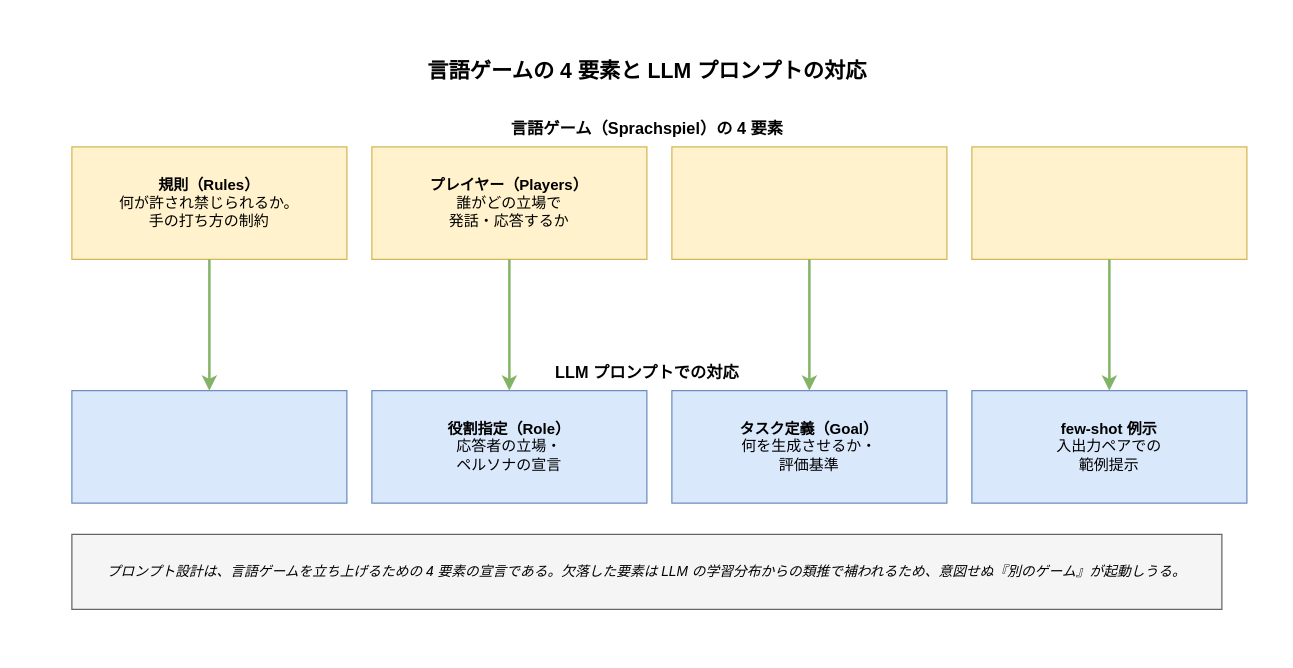
Some shapes in this 1293 by 668 pixel diagram are drawn without their labels. Each missing label, with the box of its shape:
システム指示・制約 禁則・出力形式・ 文体指定: (71, 389, 347, 503)
目的（Purpose） 何を達成する ゲームか: (671, 146, 947, 259)
訓練（Training） ゲームに習熟するための 範例・練習: (971, 146, 1247, 259)
